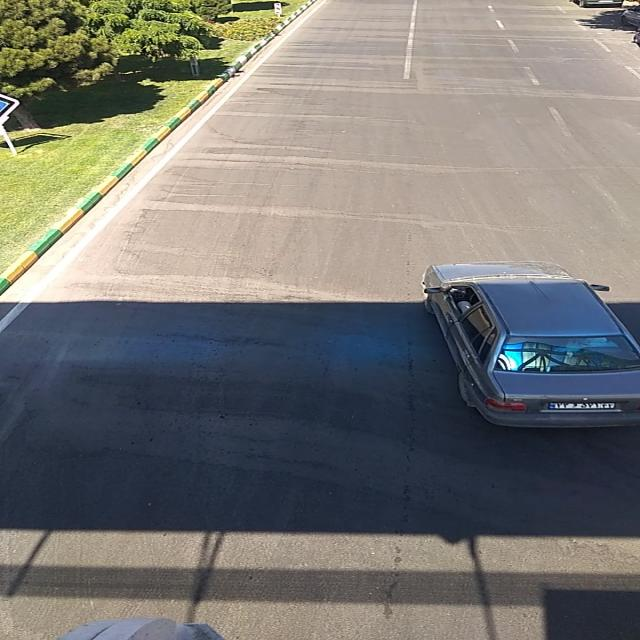car: (419, 262, 639, 428)
